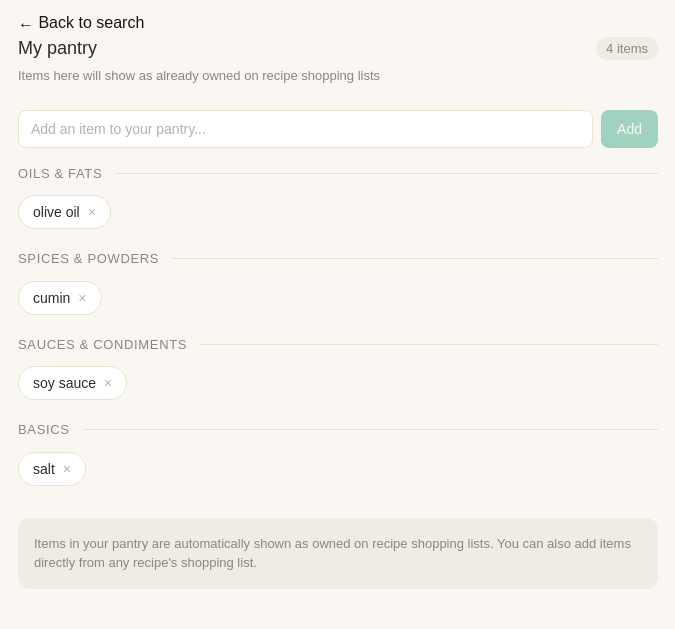
Test: PantryPage › shows duplicate message when item already exists
Type "olive oil" into the field with placeholder "Add an item to your pantry..." at (306,128), box [18, 110, 593, 148]
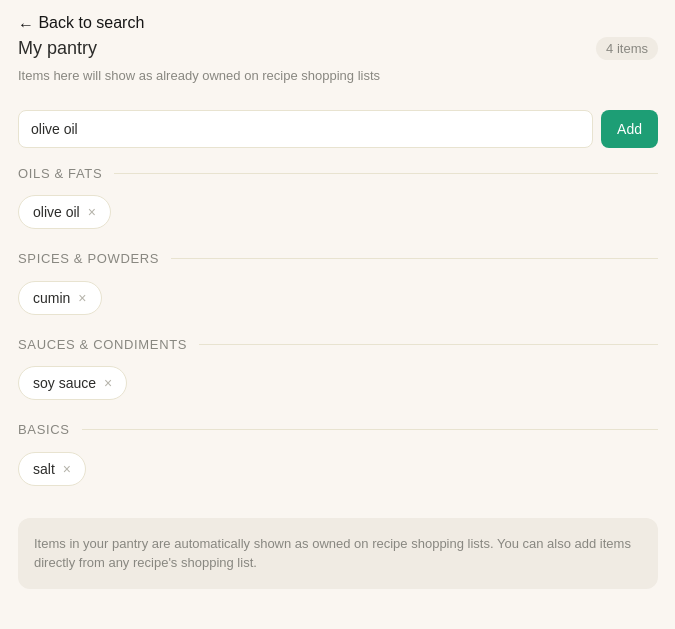
Click the button "Add" at (630,128), box [601, 110, 658, 148]
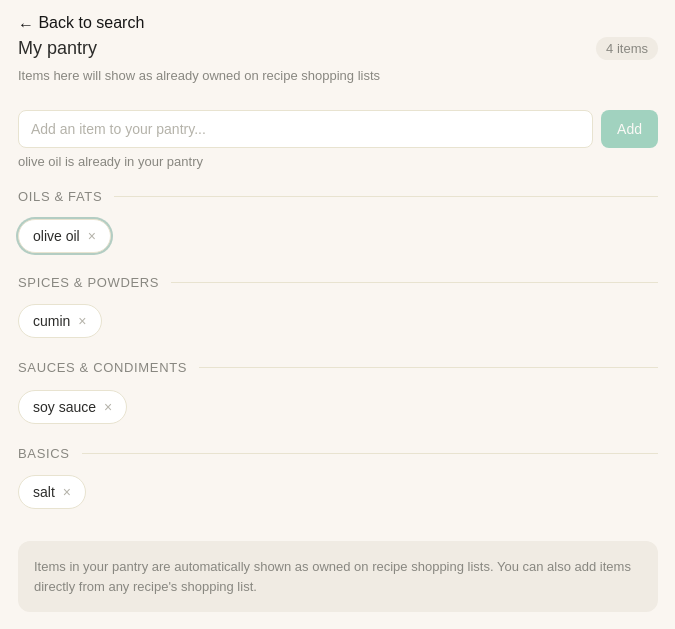
Now the text "olive oil is already in your pantry" is shown, box [18, 154, 203, 168]
